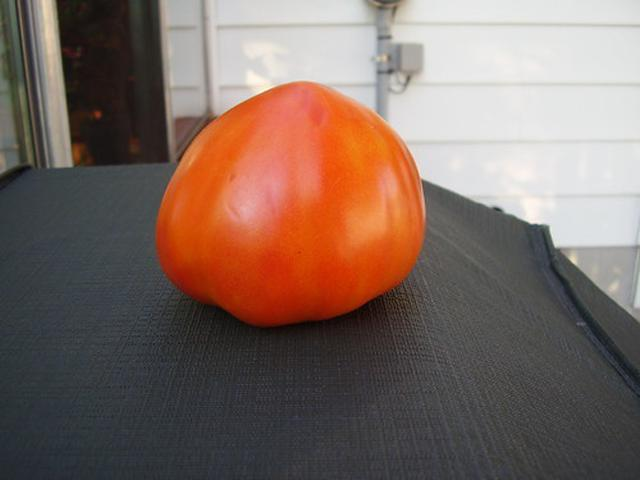tomato: (155, 79, 425, 324)
